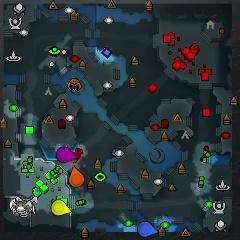p1: (138, 221, 158, 237)
p3: (56, 147, 78, 163)
p4: (51, 200, 72, 215)
p5: (68, 165, 84, 187)
